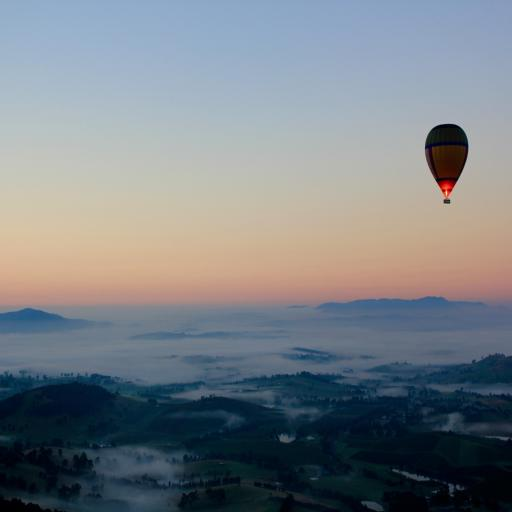hot air ballon: (422, 121, 472, 207)
